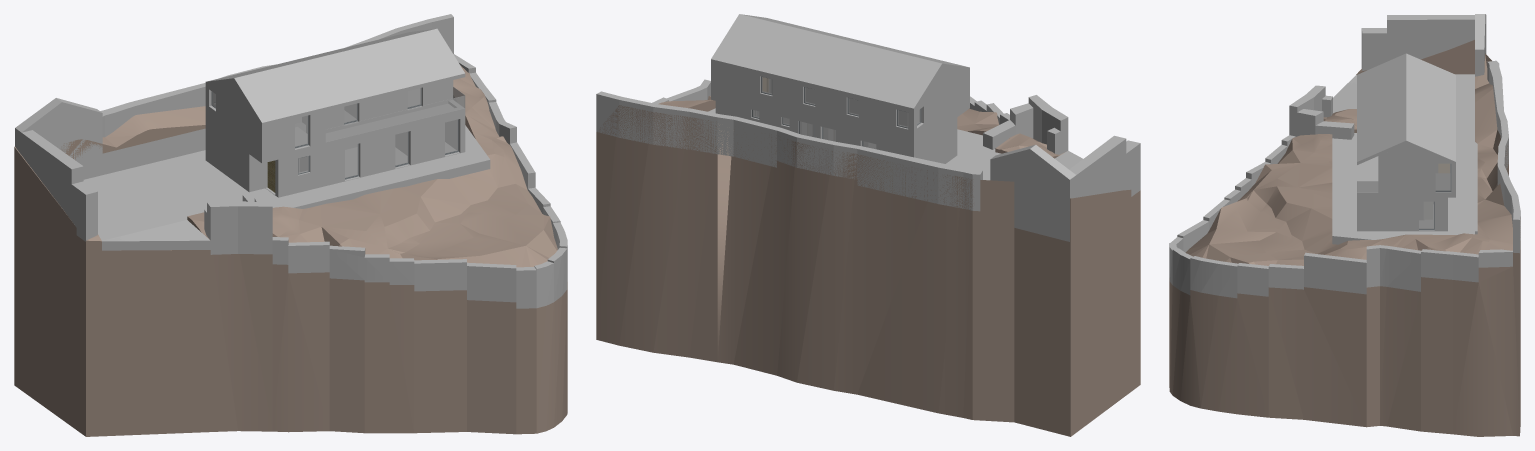
File: Maquete.glb
The picture shows the model from 3 angles, left to right: view 1: azimuth 30°, elevation 25°; view 2: azimuth 150°, elevation 25°; view 3: azimuth 270°, elevation 25°; orthographic projection. The views are drawn at different scales.
Parts seen in each view (by area): view 1: Maquete; view 2: Maquete; view 3: Maquete.
Boxes of the visible parts, left/top/right/bottom form: Maquete: left=14, top=14, right=567, bottom=436; Maquete: left=596, top=14, right=1140, bottom=436; Maquete: left=1169, top=14, right=1520, bottom=436.
Bounding box in the file's own units: 33.76 × 21.02 × 25.52.
Materials: 10 (1 with a texture image).
